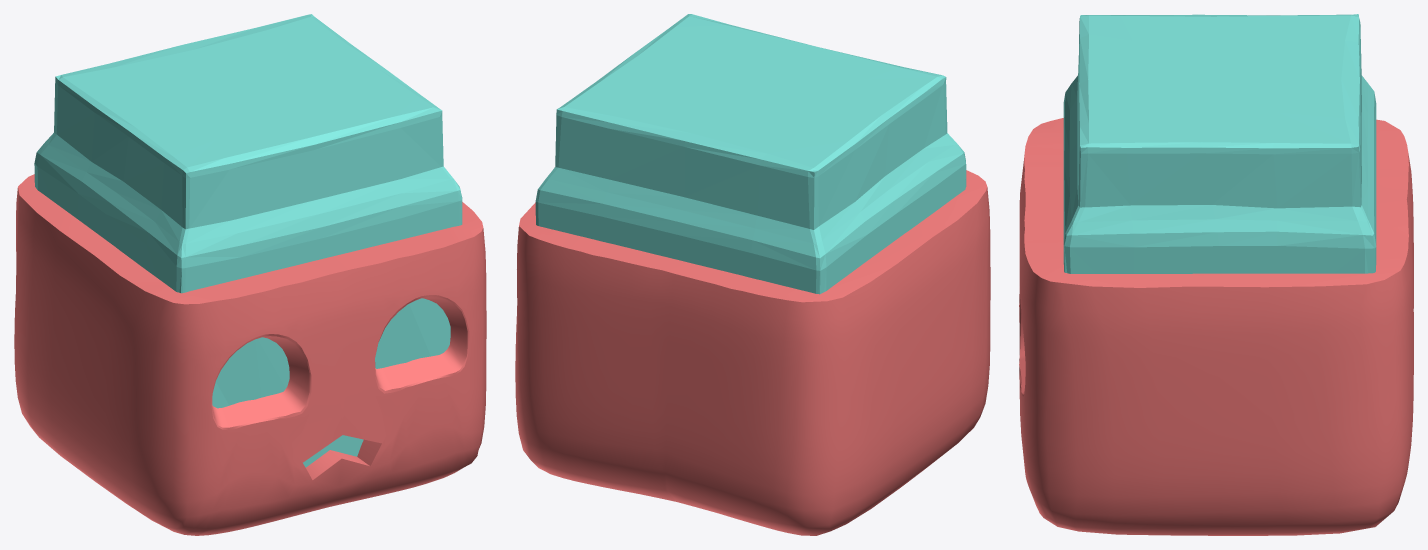
File: Prisoner_Head_No_Cap.fbx
3 views of the same model, side by side, from view 1: azimuth 30°, elevation 25°; view 2: azimuth 150°, elevation 25°; view 3: azimuth 270°, elevation 25° (orthographic). The views are drawn at different scales.
Visible parts, largest first — view 1: Prisoner_Head; view 2: Prisoner_Head; view 3: Prisoner_Head.
Part boxes in pixels (box(x1,y1,x2,y2)): Prisoner_Head: box(14, 14, 486, 535); Prisoner_Head: box(515, 14, 990, 535); Prisoner_Head: box(1019, 14, 1413, 535).
Bounding box in the file's own units: 0.509 × 0.5247 × 0.4775.
